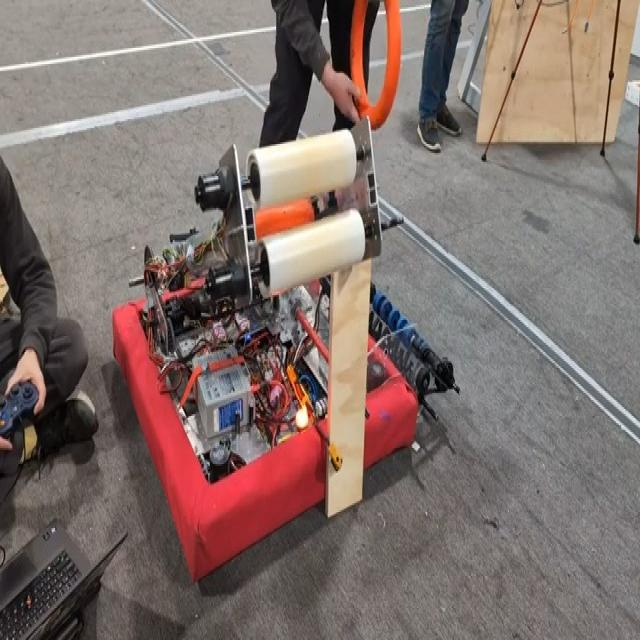note: (349, 0, 403, 130)
robot: (112, 116, 419, 583)
